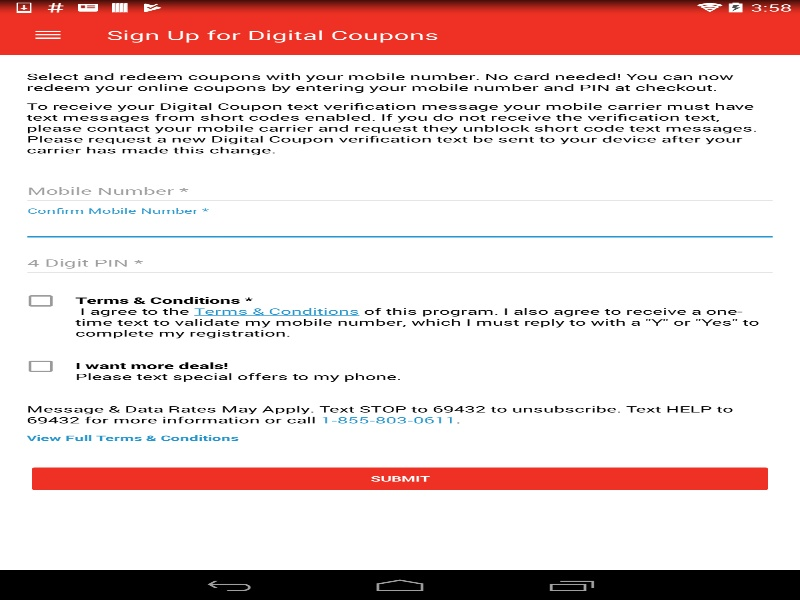Button: (26, 463, 773, 493), (10, 15, 85, 54)
Input: (22, 170, 778, 205), (22, 206, 778, 241), (22, 242, 778, 277)
